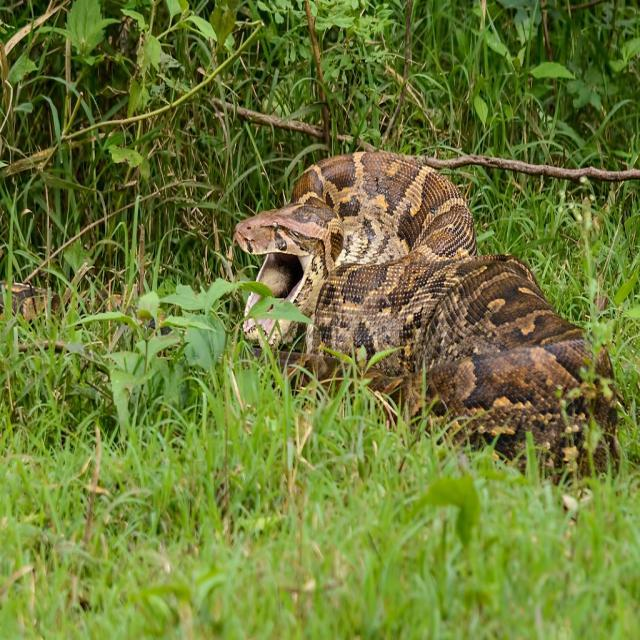Snake: (232, 148, 624, 484)
